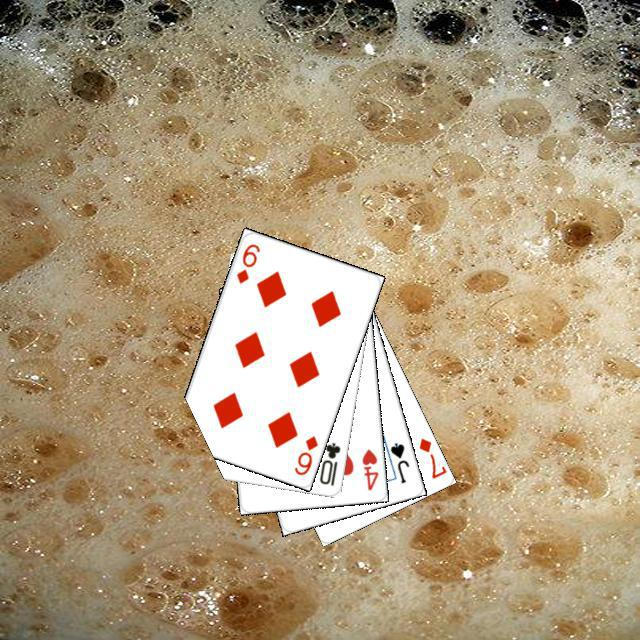10c: (314, 438, 342, 487)
4h: (357, 444, 380, 492)
6d: (289, 431, 320, 477), (232, 239, 262, 285)
7d: (414, 433, 447, 480)
Js: (385, 438, 411, 485)
